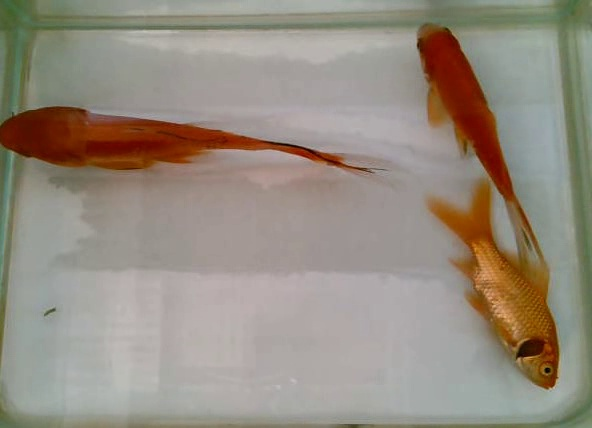alive_fish: (410, 14, 559, 288), (1, 93, 396, 192)
dead_fish: (420, 172, 582, 399)
